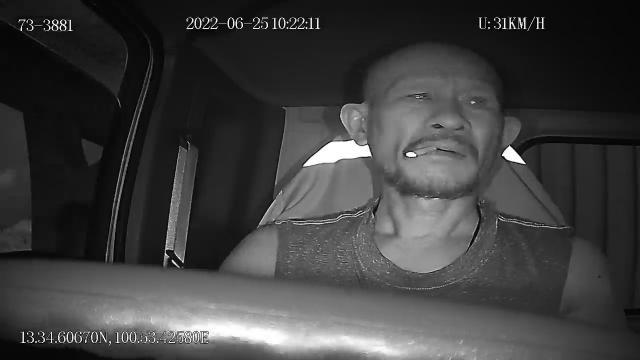SafeDriving: (394, 81, 440, 108), (456, 87, 496, 112)
Smoking: (402, 145, 438, 159)
